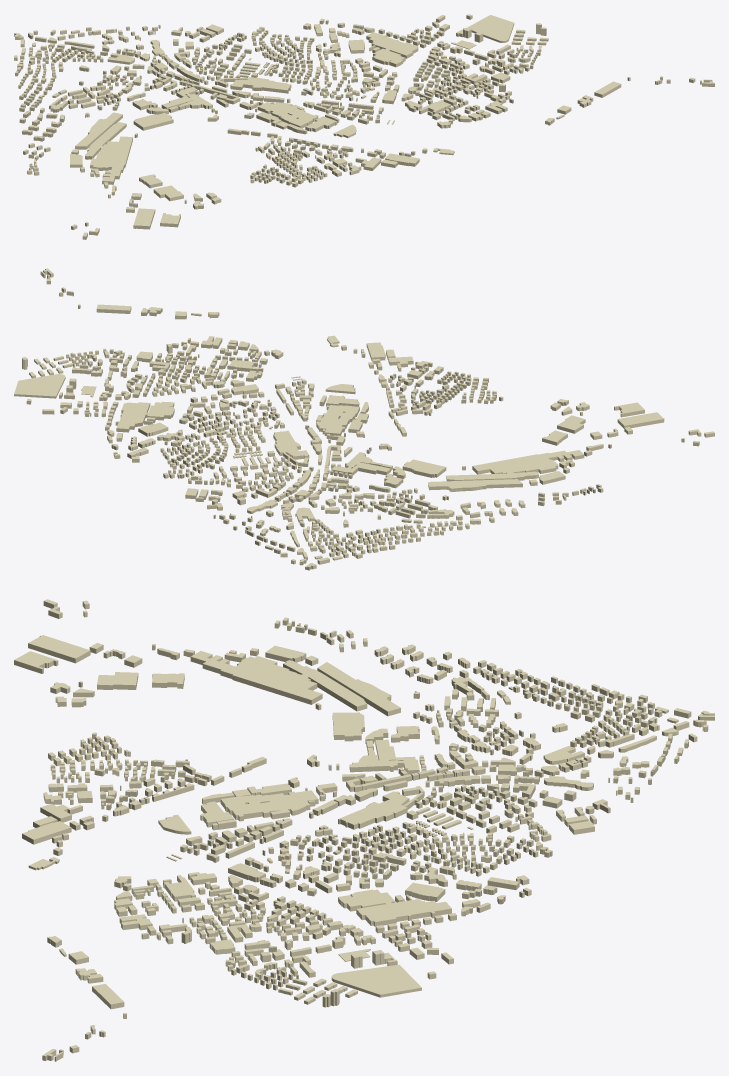
The model's file is emmenbgis-smaller-unity-prep-hiischer.fbx.
The picture shows the model from 3 angles, top to bottom: view 1: azimuth 30°, elevation 25°; view 2: azimuth 150°, elevation 25°; view 3: azimuth 270°, elevation 25°; orthographic projection. The views are drawn at different scales.
Visible parts, largest first — view 1: 98221439, Wohncenter Emmen, Giesserei Emmenbrücke, Emmen Center, 98221284, 98221394; view 2: 98221439, Wohncenter Emmen, 98221284, Emmen Center, Giesserei Emmenbrücke, 98221394; view 3: 98221439, Wohncenter Emmen, Emmen Center, Giesserei Emmenbrücke, 98221284, 98221394, 98221239.
Part boxes in pixels (x1=…): 98221439: x1=90, y1=136, x2=132, y2=184; Wohncenter Emmen: x1=467, y1=15, x2=514, y2=42; Giesserei Emmenbrücke: x1=223, y1=77, x2=291, y2=93; Emmen Center: x1=366, y1=32, x2=418, y2=58; 98221284: x1=75, y1=112, x2=122, y2=149; 98221394: x1=133, y1=208, x2=155, y2=229; 98221439: x1=472, y1=450, x2=584, y2=474; Wohncenter Emmen: x1=14, y1=374, x2=65, y2=398; 98221284: x1=428, y1=479, x2=522, y2=491; Emmen Center: x1=115, y1=402, x2=150, y2=432; Giesserei Emmenbrücke: x1=273, y1=430, x2=309, y2=465; 98221394: x1=617, y1=412, x2=664, y2=428; 98221439: x1=190, y1=651, x2=322, y2=704; Wohncenter Emmen: x1=331, y1=964, x2=421, y2=997; Emmen Center: x1=356, y1=899, x2=451, y2=926; Giesserei Emmenbrücke: x1=338, y1=791, x2=423, y2=829; 98221284: x1=317, y1=662, x2=400, y2=716; 98221394: x1=28, y1=635, x2=90, y2=663; 98221239: x1=308, y1=673, x2=367, y2=711.
Size of the model in its own units: 404719 by 5700 by 261915.
